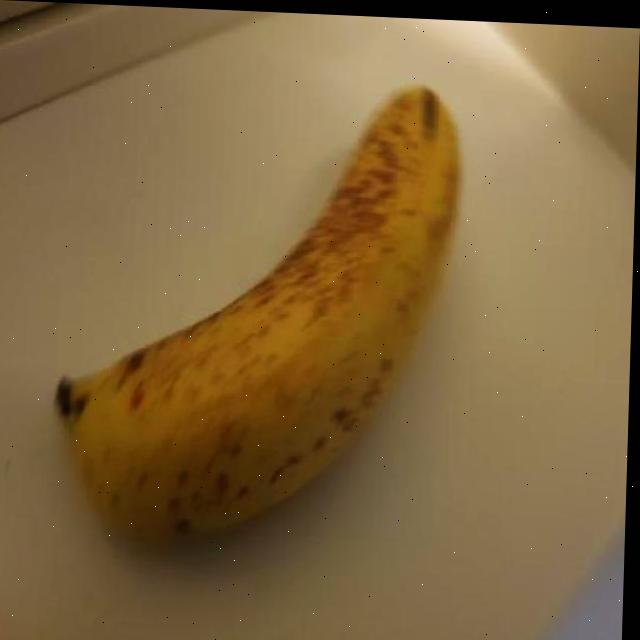banana: (39, 62, 466, 553)
